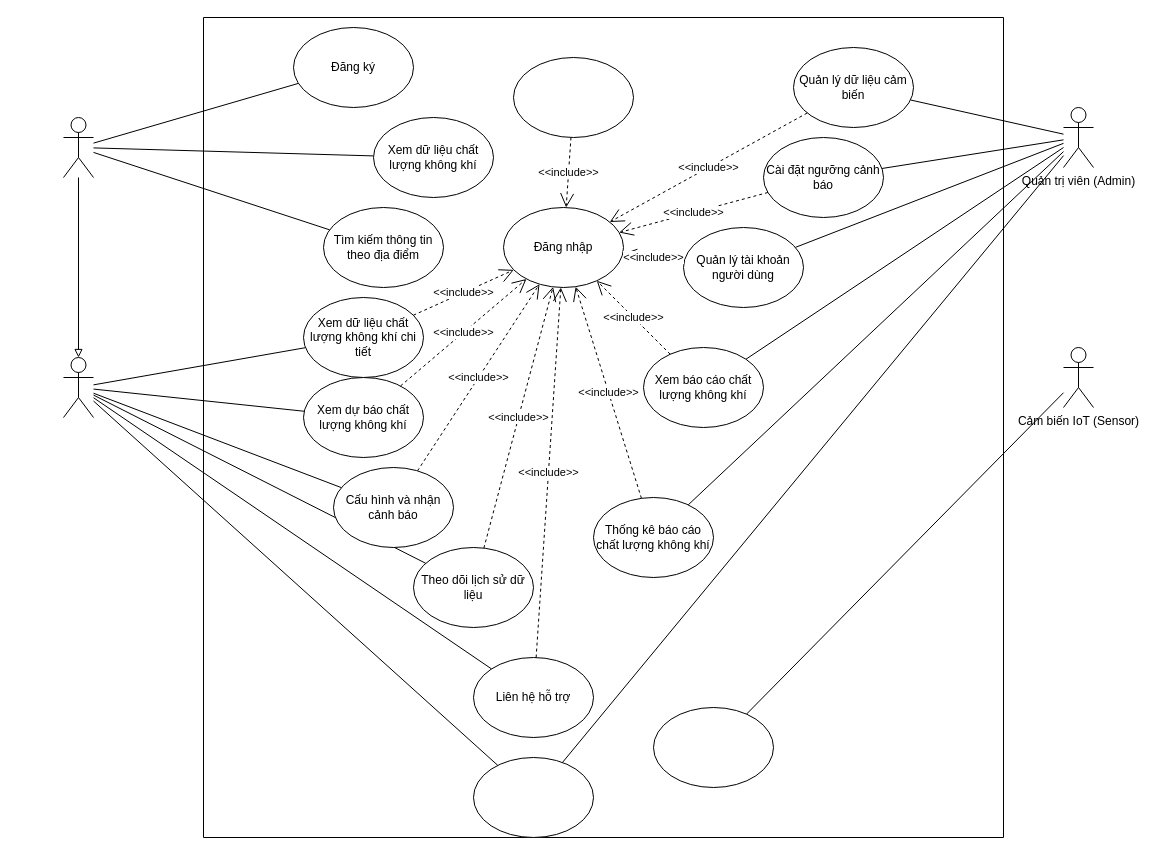
This 1156x855 diagram has some shape labels left out. The centre of each missing label's shape, as x and y in pixels:
"Gửi dữ liệu chất lượng không khí" belongs at (x=713, y=747).
"Khách vãng lai (Guest)" belongs at (x=78, y=147).
"Người dùng (User)" belongs at (x=78, y=387).
"Quên mật khẩu" belongs at (x=533, y=797).
"Đăng xuất" belongs at (x=573, y=97).
